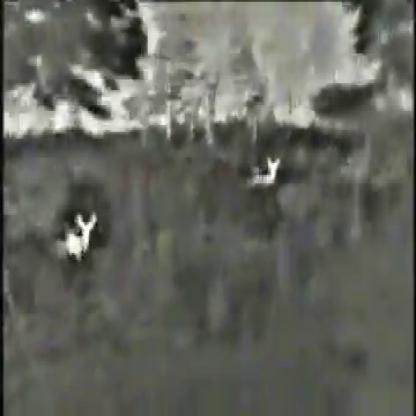rehkitze: (64, 213, 99, 255), (251, 156, 281, 190)
